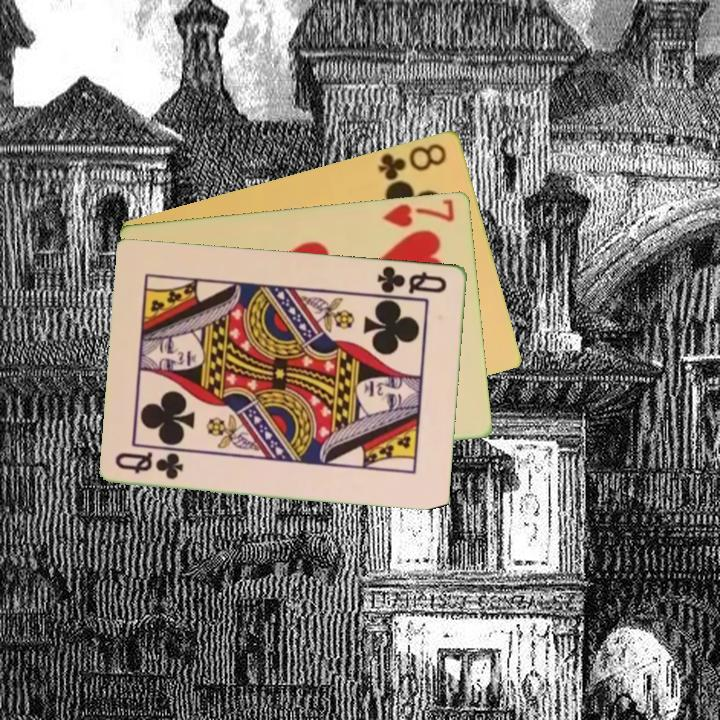7h: (380, 195, 458, 230)
8c: (374, 139, 450, 183)
Qc: (374, 262, 450, 296), (112, 448, 187, 482)
